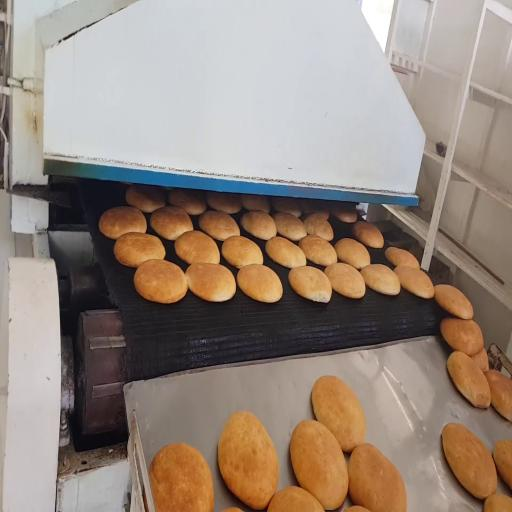bread: (218, 412, 278, 510), (290, 421, 348, 510), (149, 444, 214, 511), (442, 423, 497, 499), (312, 376, 366, 452), (349, 444, 407, 511), (447, 352, 490, 408), (134, 260, 187, 303), (186, 263, 236, 302), (114, 233, 165, 267), (237, 265, 282, 302), (441, 318, 483, 356), (289, 266, 331, 302), (99, 207, 146, 239), (150, 206, 193, 240), (175, 231, 219, 264), (325, 263, 365, 298), (268, 486, 323, 511), (394, 265, 434, 299), (435, 284, 473, 319), (485, 370, 511, 421), (222, 236, 263, 268), (266, 237, 306, 268), (361, 264, 400, 295), (199, 211, 239, 241), (299, 235, 337, 266), (335, 238, 370, 269), (126, 185, 165, 212), (241, 211, 276, 240), (168, 189, 206, 215), (273, 213, 307, 241), (493, 440, 511, 488), (304, 213, 333, 241), (354, 221, 383, 248), (206, 192, 241, 214), (385, 247, 419, 269), (272, 197, 301, 217), (330, 202, 357, 223), (301, 199, 329, 219), (241, 195, 270, 212), (484, 494, 511, 511), (472, 348, 489, 371), (346, 506, 369, 511), (223, 508, 242, 511)
